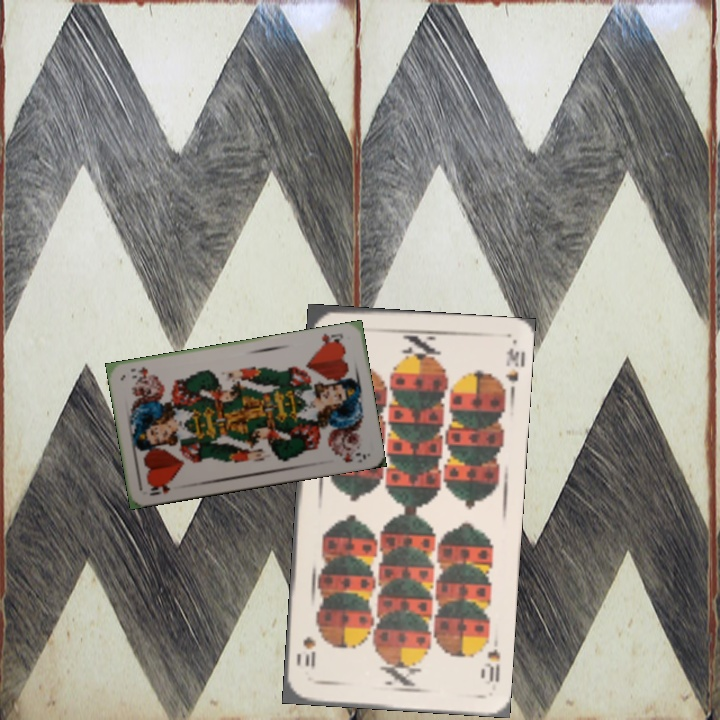HO: (316, 329, 346, 350), (146, 478, 173, 498)
S10: (477, 644, 503, 685)
